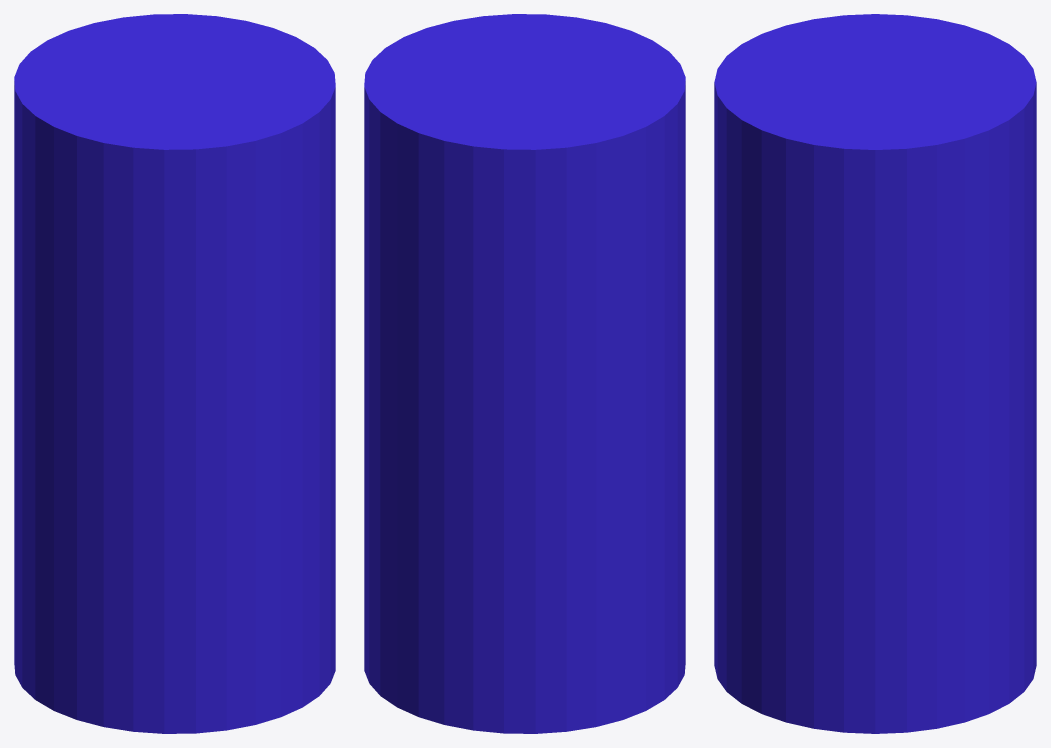
File: Cilinder.glb
The picture shows the model from 3 angles, left to right: view 1: azimuth 30°, elevation 25°; view 2: azimuth 150°, elevation 25°; view 3: azimuth 270°, elevation 25°; orthographic projection.
Visible parts, largest first — view 1: Cylinder; view 2: Cylinder; view 3: Cylinder.
Boxes of the visible parts, x1,y1,x2,y2 form: Cylinder: (14, 14, 335, 733); Cylinder: (364, 14, 685, 733); Cylinder: (714, 14, 1036, 733).
Bounding box in the file's own units: 1 × 2 × 1.
